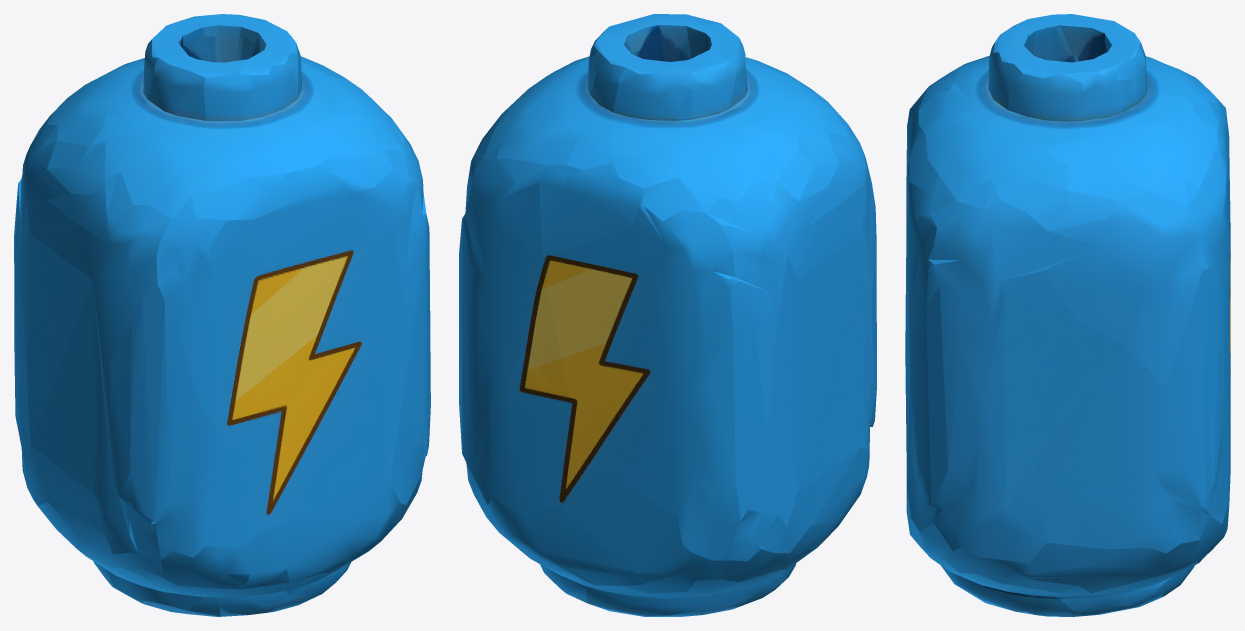
Rendered from item_turbo.glb.
3 views of the same model, side by side, from view 1: azimuth 30°, elevation 25°; view 2: azimuth 150°, elevation 25°; view 3: azimuth 270°, elevation 25° (orthographic).
Size of the model in its own units: 1.21 by 1.9 by 1.06.
1 material, 1 textured.
